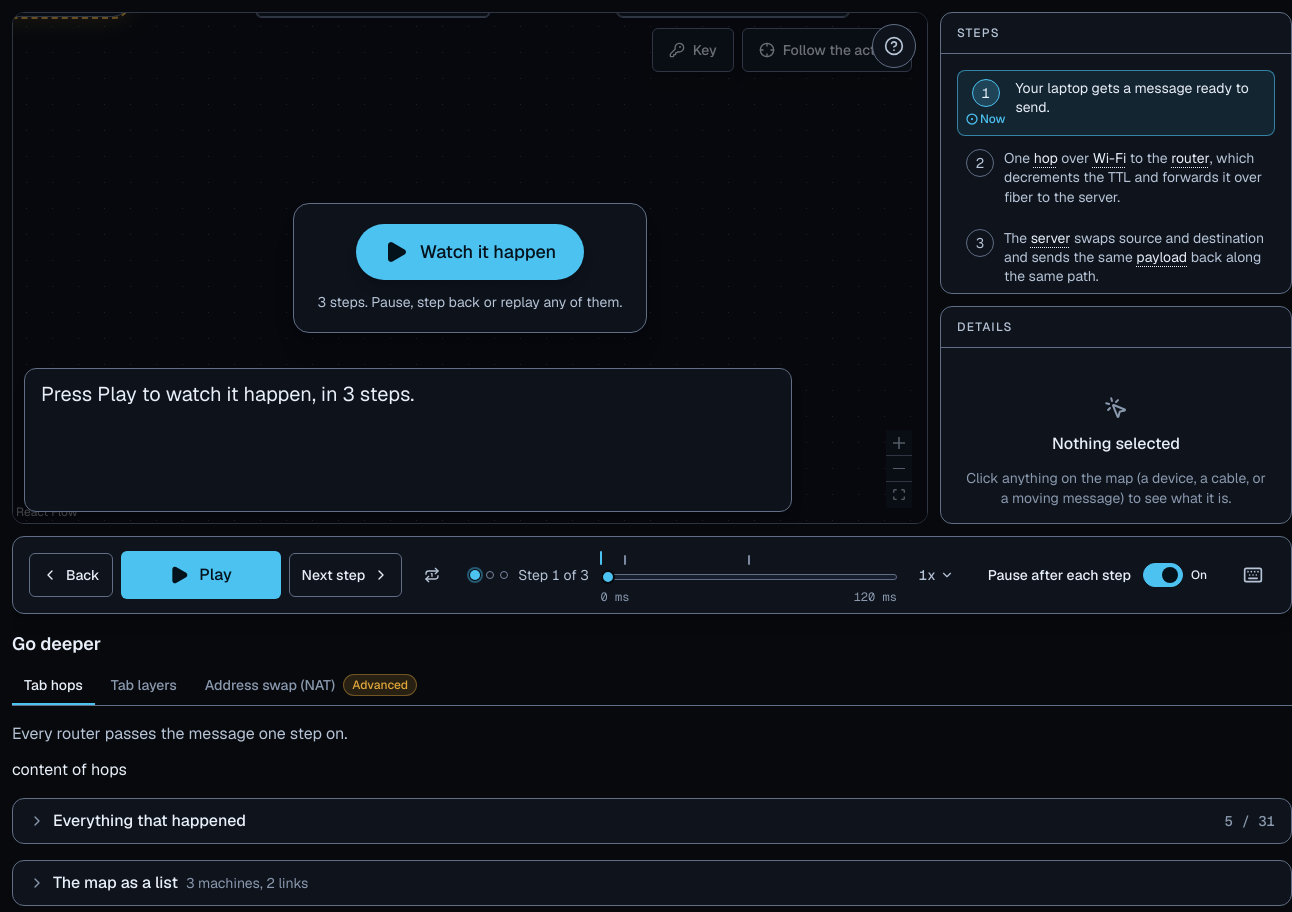
Scenario: Go deeper › mounts only the active tab, and orders advanced tabs last with a tag
This screenshot has width=1292, height=912.
expect the text "content of hops" is shown: met, box [12,759,127,780]
expect the text "Every router passes the message one step on." is shown: met, box [12,723,348,744]
Click the tab "Address swap (NAT) Advanced" at (311, 686), box [193,666,429,706]
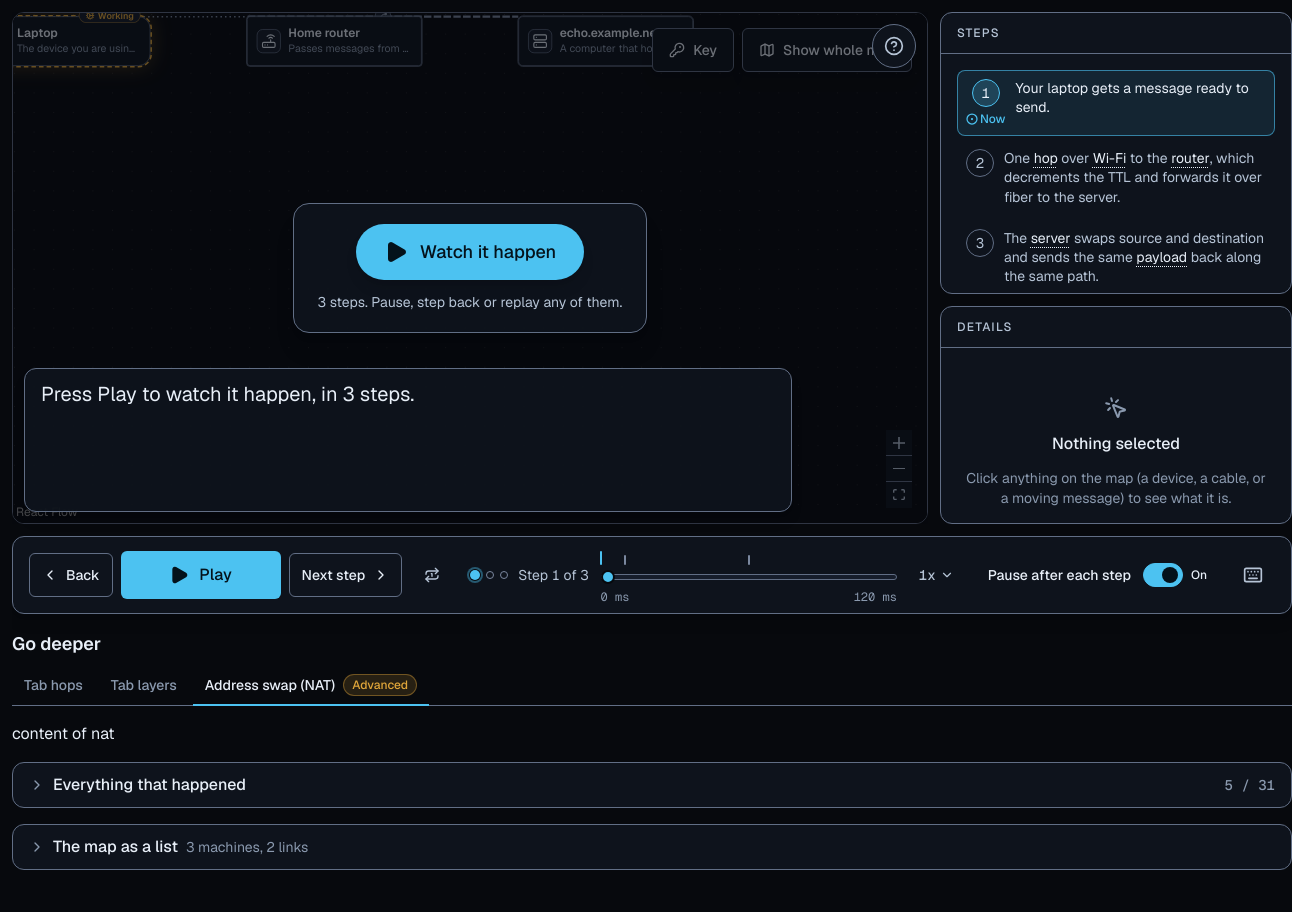
expect the text "content of nat" is shown: met, box [12,723,114,744]
expect the text "content of hops" is gone: met
